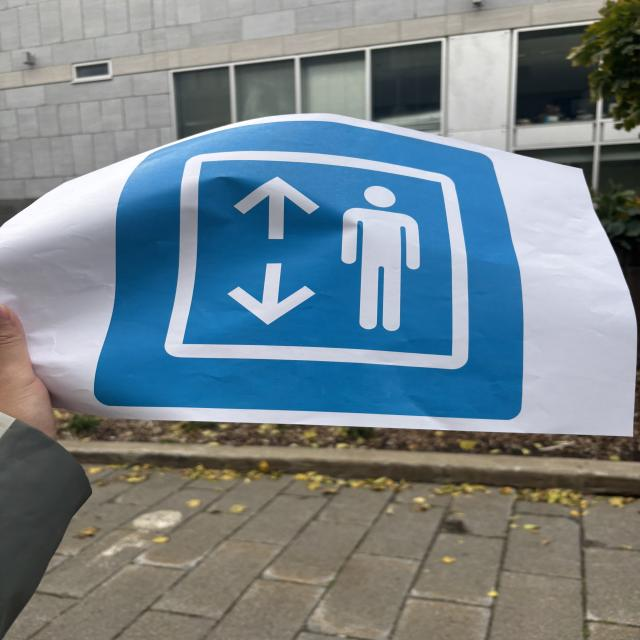elevator: (99, 118, 521, 421)
